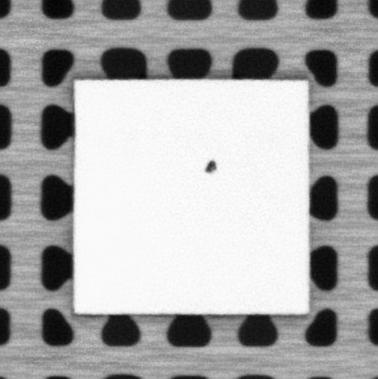DIE_INK: (203, 159, 218, 174)
